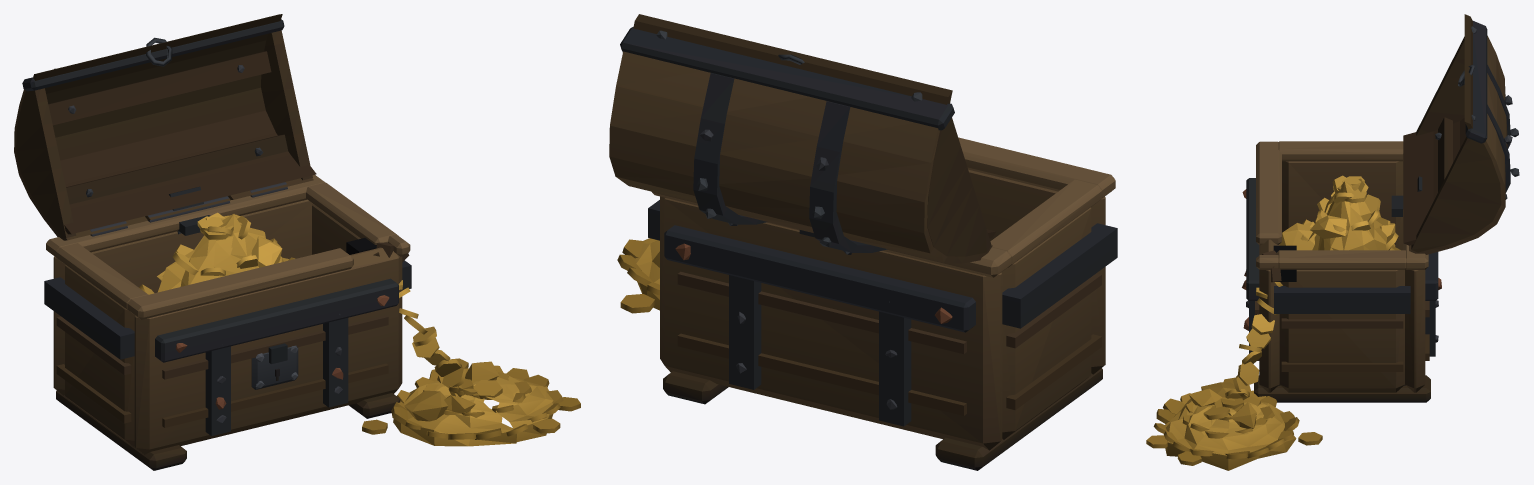
The model's file is dun-treasure-chest.glb.
3 renders of one model, left to right at view 1: azimuth 30°, elevation 25°; view 2: azimuth 150°, elevation 25°; view 3: azimuth 270°, elevation 25°, orthographic. The views are drawn at different scales.
Parts seen in each view (by area): view 1: dun_treasure_chest; view 2: dun_treasure_chest; view 3: dun_treasure_chest.
Boxes of the visible parts, left/top/right/bottom form: dun_treasure_chest: left=14, top=14, right=580, bottom=470; dun_treasure_chest: left=609, top=14, right=1117, bottom=470; dun_treasure_chest: left=1146, top=14, right=1519, bottom=470.
Size of the model in its own units: 1.16 by 0.879 by 1.01.
